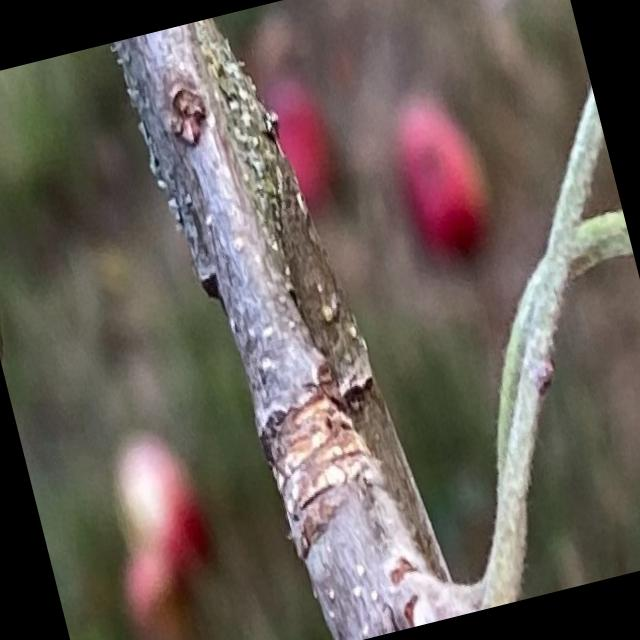Apples: (384, 94, 506, 276), (107, 426, 220, 592), (266, 79, 344, 213)
